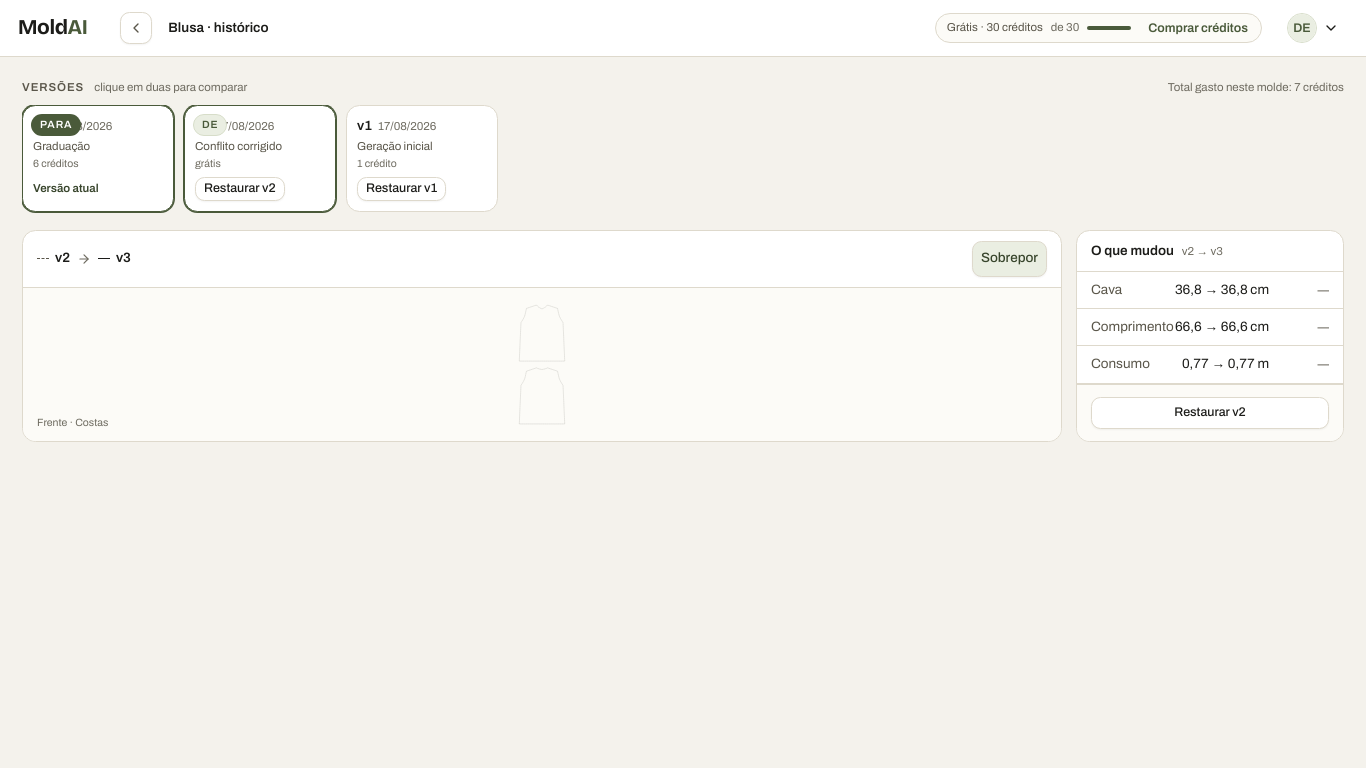
Test: VersionsShell › shows an inline notice and stays on screen when restore fails
Click the button "Restaurar v1".
click(402, 188)  # box [357,176,446,200]
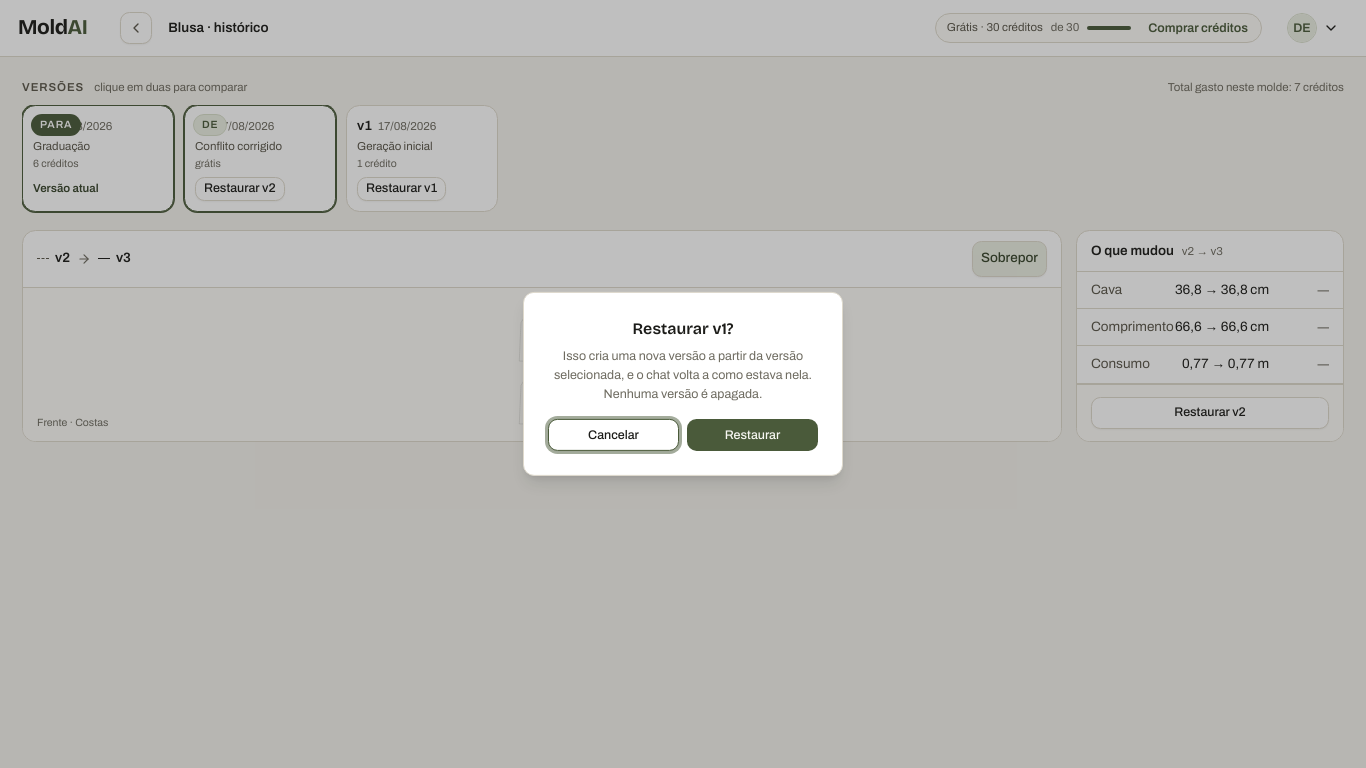
Click the button "Restaurar".
click(752, 435)  # box [687,419,818,451]
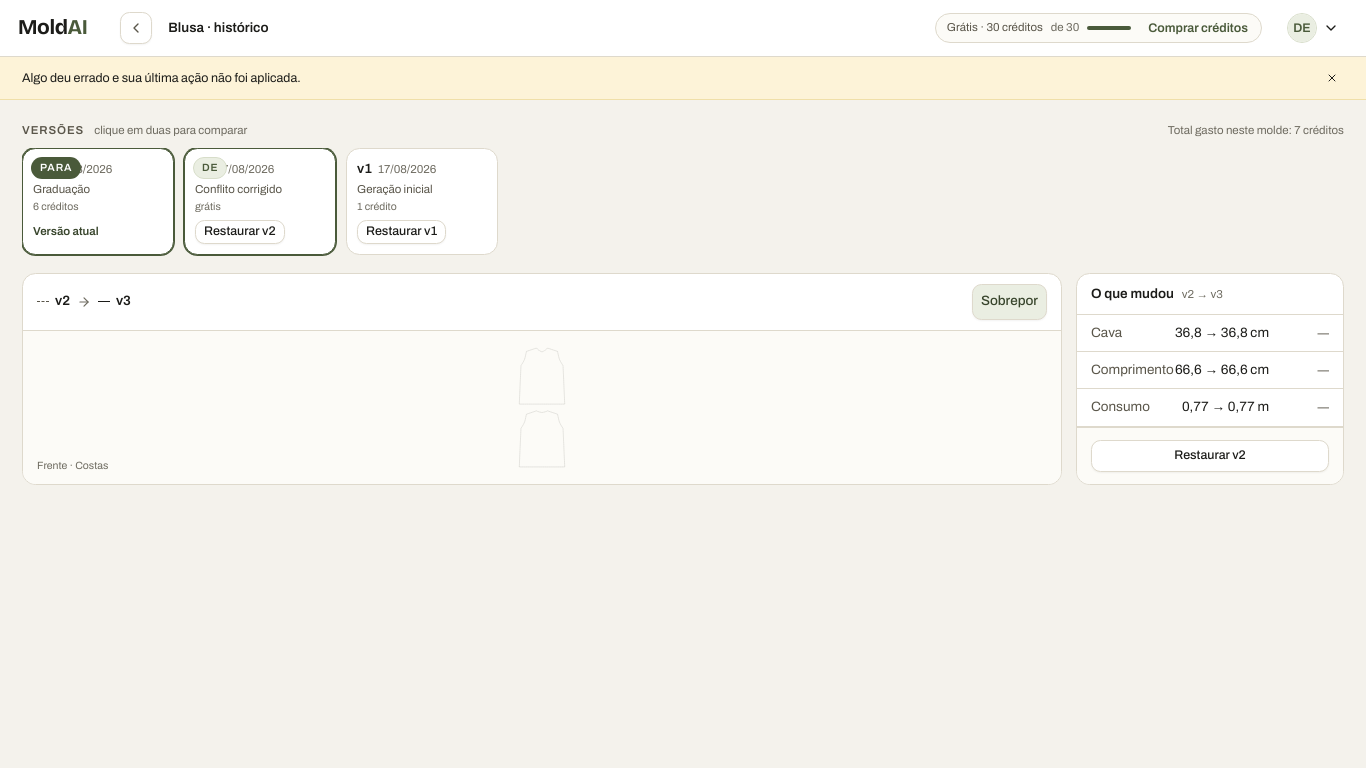
expect the text "Algo deu errado e sua última ação não foi aplicada." is shown: met, box [22,71,301,85]
